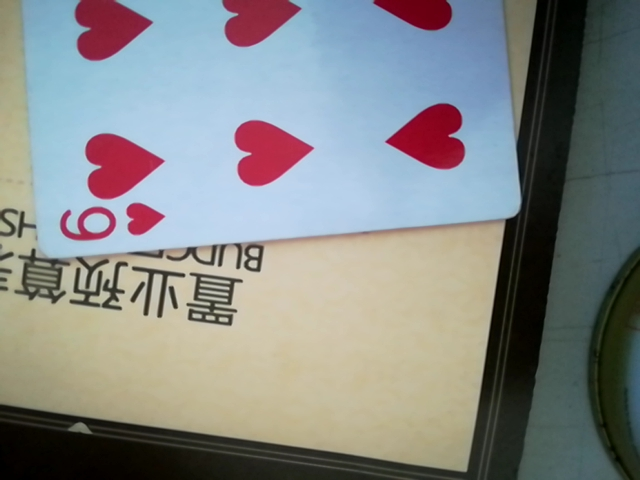hx 6: (22, 0, 523, 259)
